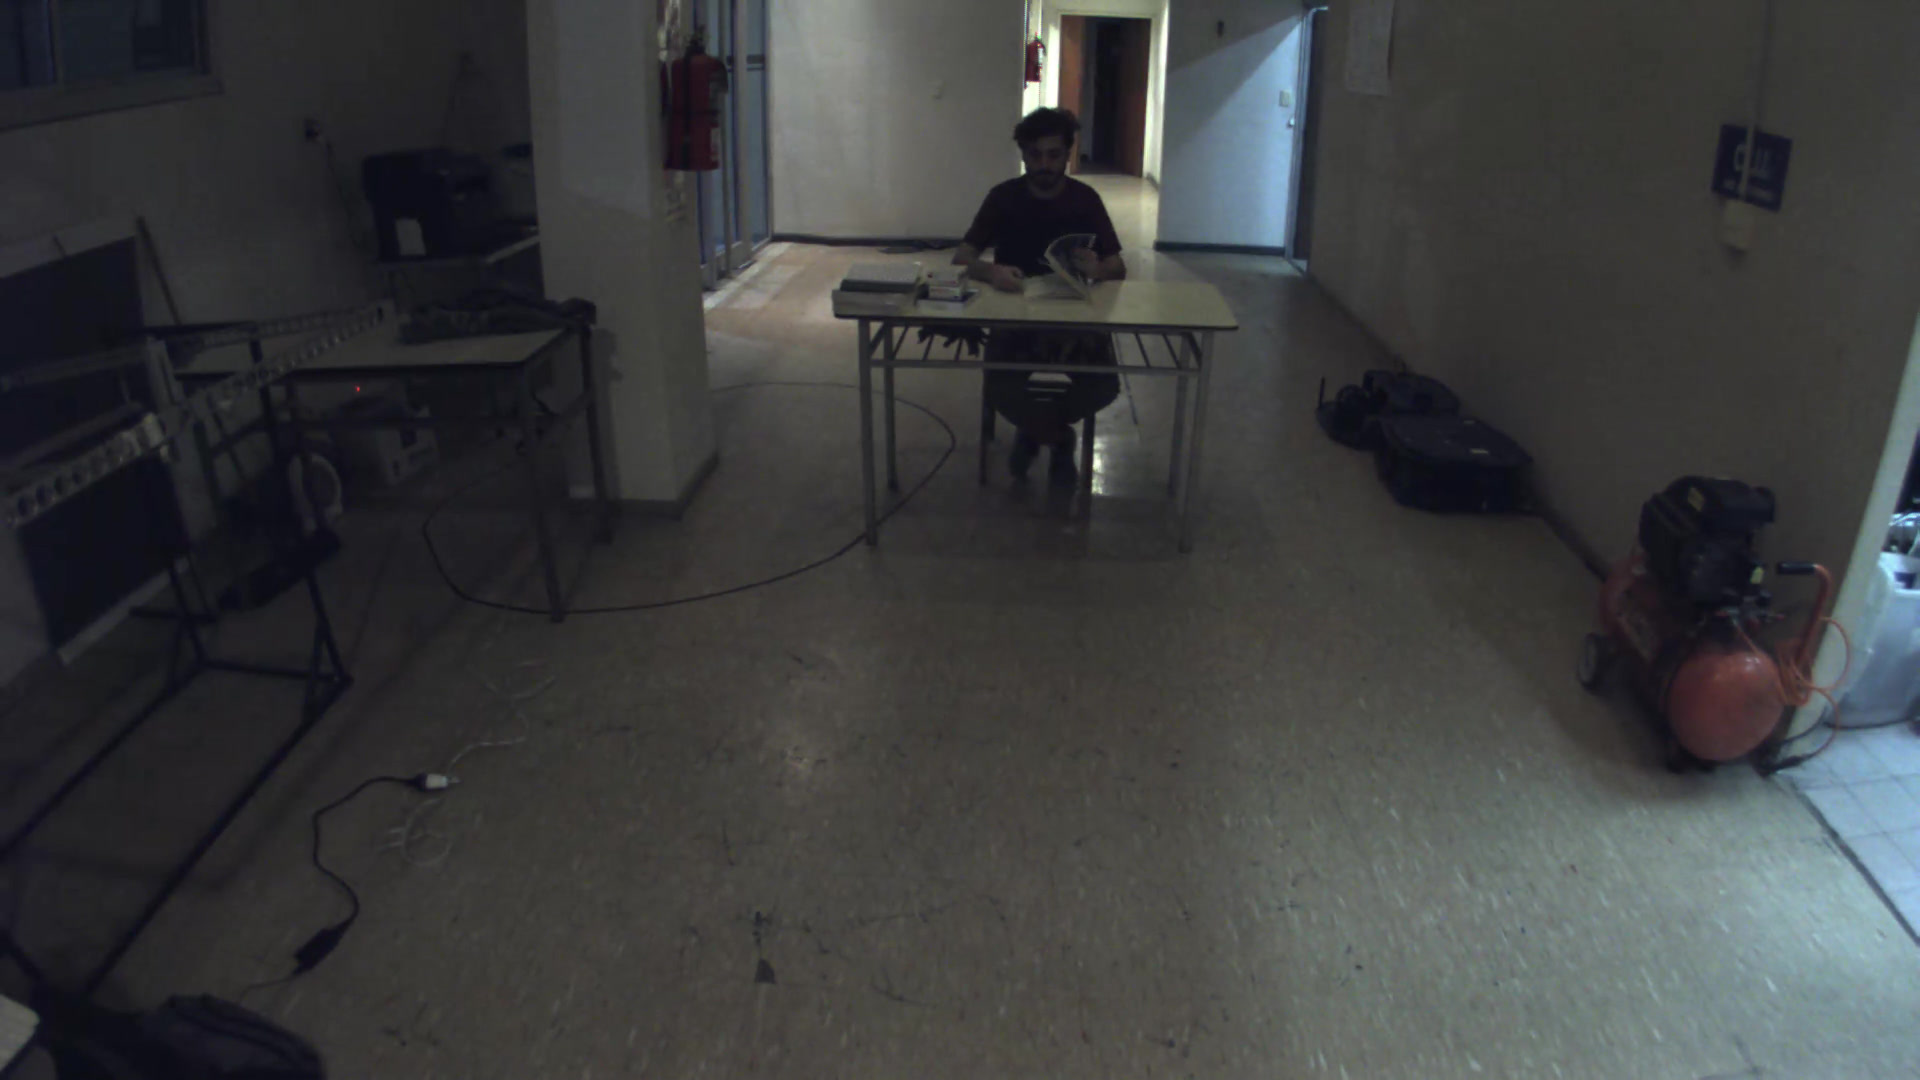hand: (992, 257, 1036, 295), (1069, 240, 1102, 280)
